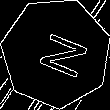N_W: (25, 25, 86, 81)
